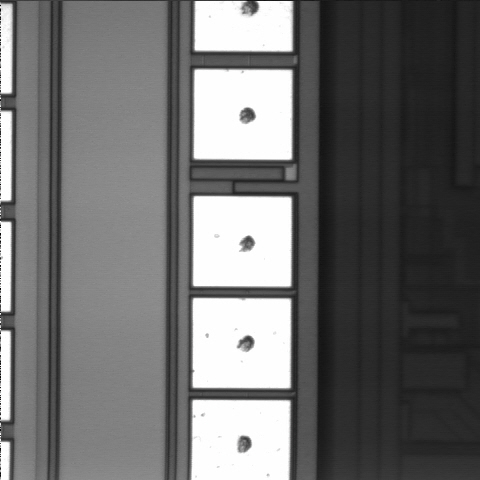pad: (193, 196, 291, 287), (194, 70, 292, 160), (193, 298, 291, 388)
